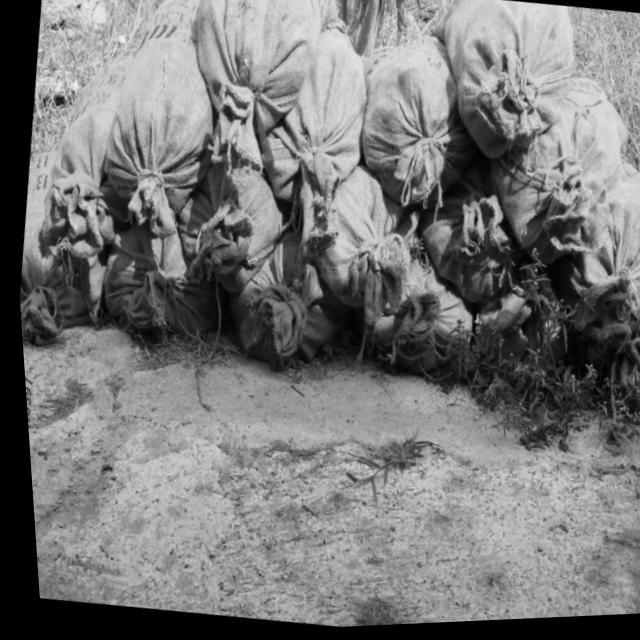sack: (238, 10, 385, 266), (169, 0, 346, 211), (83, 0, 235, 245), (473, 69, 640, 286), (413, 0, 586, 175), (25, 46, 137, 266), (344, 27, 471, 217), (538, 158, 640, 367), (301, 161, 422, 317), (164, 158, 289, 304), (91, 215, 206, 339)
